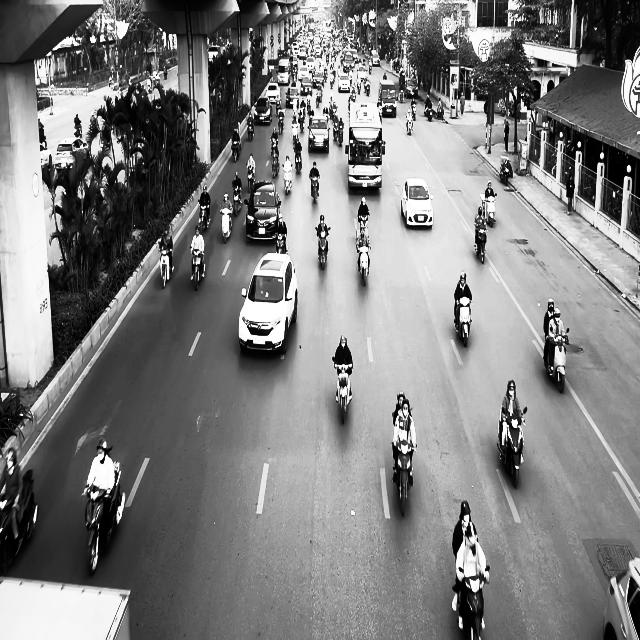bus: (348, 100, 384, 190)
car: (238, 252, 298, 354), (244, 180, 282, 241), (401, 177, 434, 229), (55, 136, 89, 172), (308, 117, 330, 153), (40, 141, 52, 168)
motorbike: (82, 460, 126, 576), (1, 469, 40, 575), (454, 564, 490, 640), (497, 405, 528, 488), (392, 440, 417, 517), (543, 328, 570, 392), (333, 358, 353, 423), (454, 296, 473, 348), (190, 247, 206, 290), (316, 226, 331, 270), (159, 244, 174, 288), (356, 244, 371, 286), (220, 206, 233, 242), (475, 227, 487, 264), (485, 194, 497, 228), (199, 203, 210, 232), (500, 156, 511, 184), (310, 174, 320, 203), (283, 166, 293, 194), (246, 165, 256, 192), (276, 232, 288, 254), (294, 147, 303, 173), (232, 139, 240, 162), (406, 113, 414, 135), (248, 118, 255, 140)
